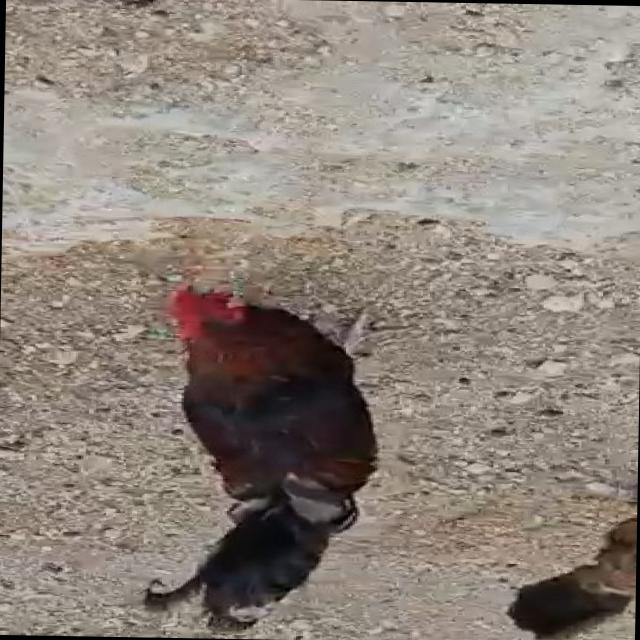pecking: (133, 254, 404, 634)
